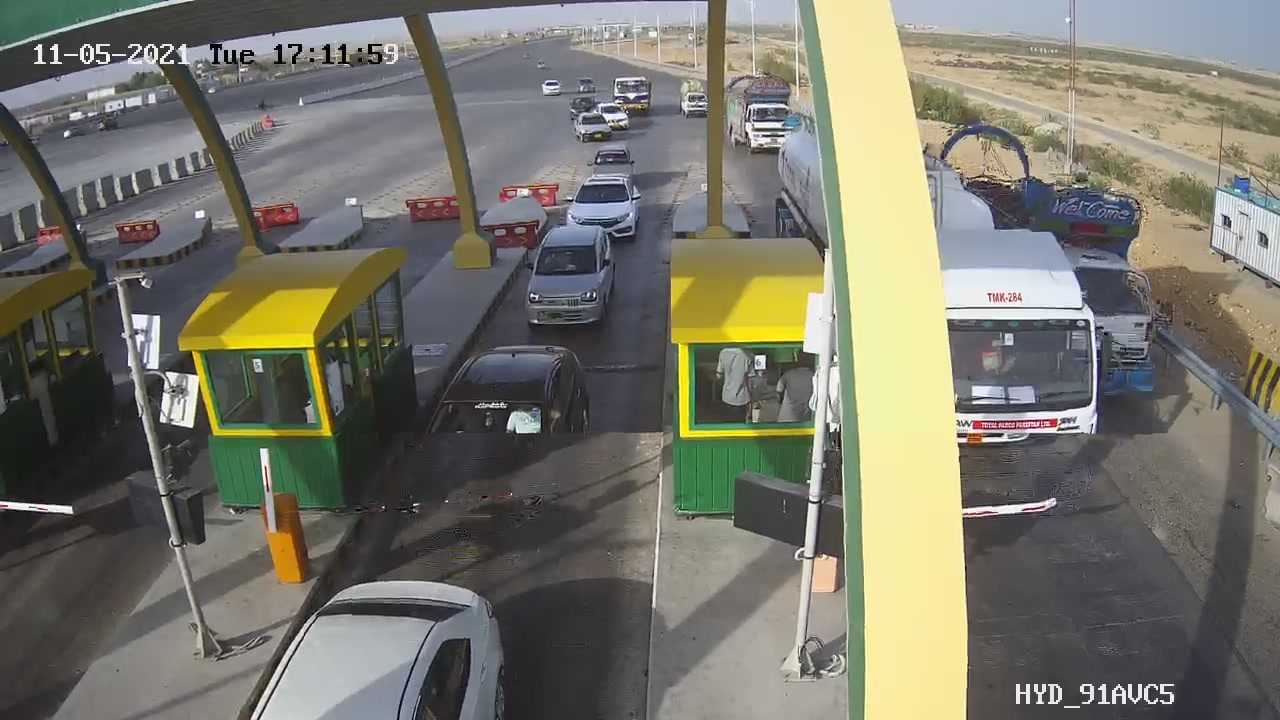F1: (501, 214, 640, 340)
